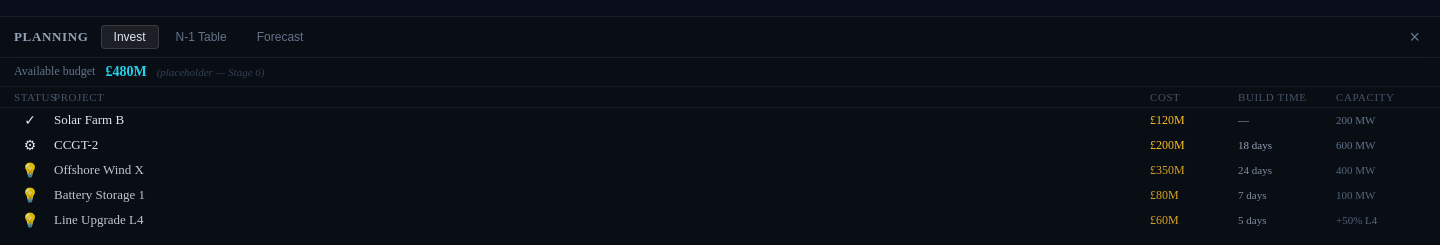
Test: PlanningPanel › switches to N-1 Table tab on click
What coordinates should you click on to do the following:
click the button with test id "tab-n1"
I would click on:
 (201, 37)
Its box is 163,25 -> 240,49.
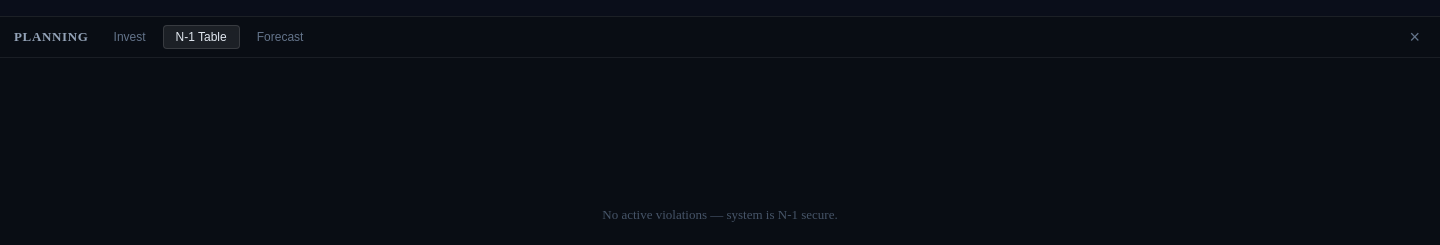
Check: the text "No active violations — system is N-1 secure." is shown, box 602,207 -> 838,222
